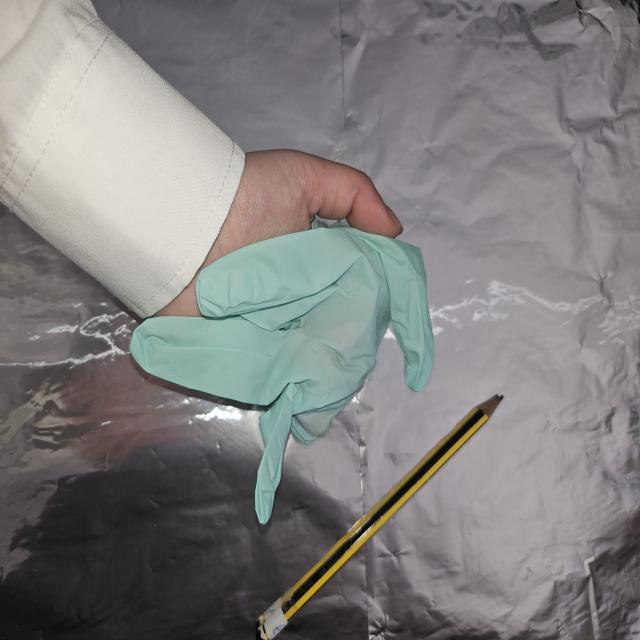glove_partial: (130, 145, 435, 528)
